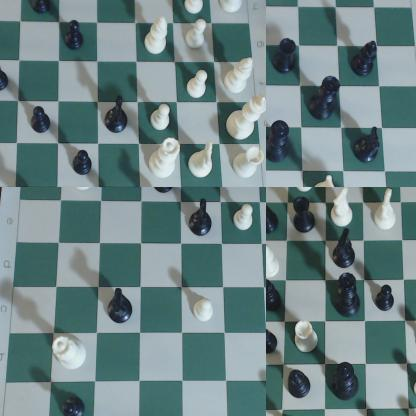black-bishop: (352, 39, 381, 79), (283, 365, 313, 400), (267, 279, 287, 313), (151, 188, 177, 199)
black-king: (267, 119, 295, 165), (334, 362, 364, 402)
black-knight: (105, 96, 132, 137), (354, 127, 383, 165), (189, 200, 217, 239), (335, 228, 359, 273), (108, 287, 135, 324), (267, 190, 283, 238)
black-pawn: (372, 284, 400, 318), (65, 17, 90, 53), (70, 148, 96, 179), (29, 104, 54, 136), (58, 394, 89, 416), (29, 1, 55, 21), (267, 325, 281, 356), (1, 59, 13, 94)
black-queen: (335, 271, 365, 320), (315, 74, 342, 125)
black-rook: (275, 33, 302, 80), (289, 196, 319, 238)
white-bishop: (224, 54, 258, 96), (147, 12, 171, 55), (267, 241, 286, 284)
white-king: (224, 94, 266, 144)
white-knight: (185, 140, 217, 180), (328, 188, 357, 231), (375, 189, 401, 234), (310, 174, 342, 187)
white-pawn: (188, 20, 212, 52), (188, 70, 210, 104), (232, 204, 257, 233), (151, 105, 174, 134), (194, 296, 216, 324), (186, 1, 208, 18), (293, 188, 326, 195)
white-queen: (53, 335, 87, 371), (151, 139, 179, 178)
white-rook: (293, 316, 326, 359), (230, 145, 267, 183), (219, 1, 254, 19)
